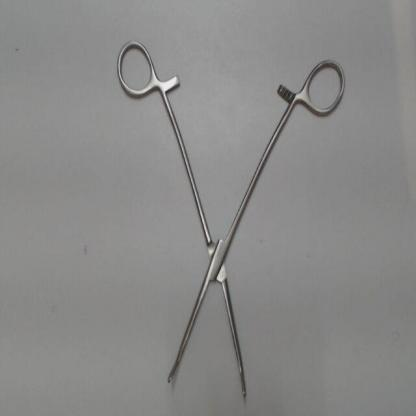Lahey Forceps: (111, 30, 347, 402)
